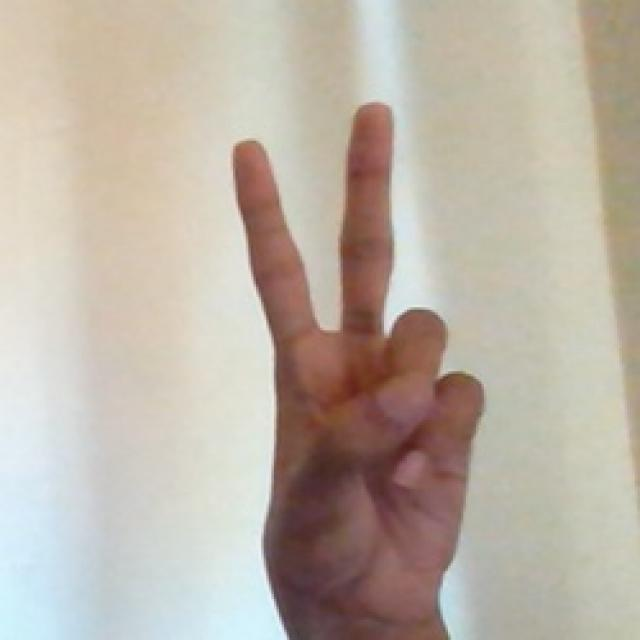Numeric-2: (223, 94, 491, 610)
